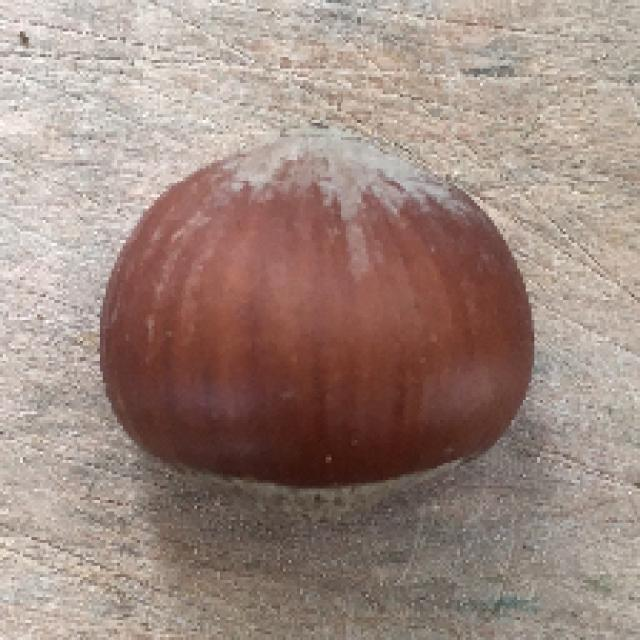qualityHazelnut: (112, 150, 537, 503)
